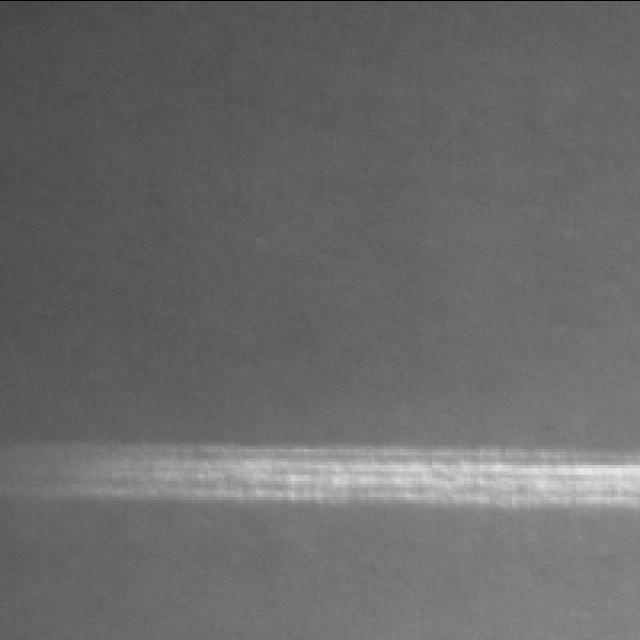scratches: (0, 448, 640, 506)
